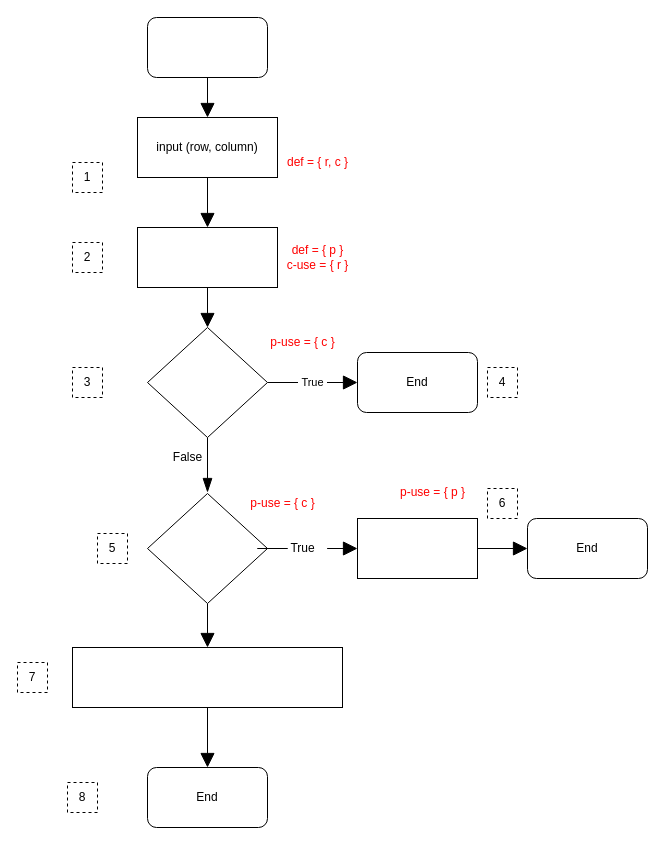
This 665x845 diagram has some shape labels left out. The shapes that lost their labels are listed below. From the top down, each one's centre as x and y in pixels, then its label:
At point (207, 47): "Start".
At point (207, 257): "prj = getProjectAt(row)".
At point (207, 382): "0 < column < 5".
At point (207, 548): "4 < column < 7".
At point (417, 548): "return prj.isRunning".
At point (207, 677): "return false".
